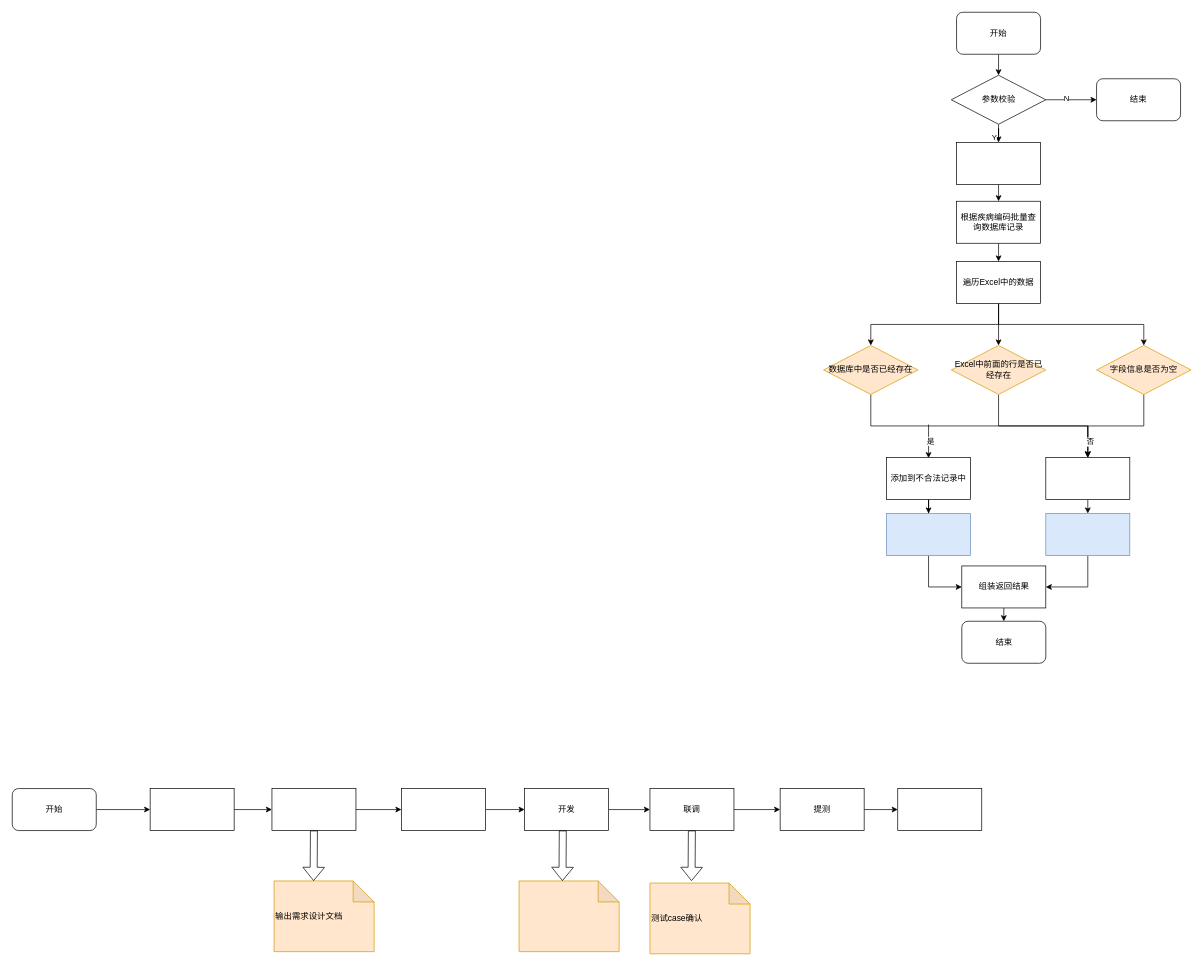
The diagram is 1203 pixels wide and 966 high, and some of its shapes have lost their labels. The shapes that lost their labels are listed below. From the top down, each one's centre as x and y in pixels, then its label:
the point at 998,163: Excel解析转Bean
the point at 1087,478: 添加合法记录中
the point at 928,534: 生成Excel上传cos
the point at 1087,534: 批量插入数据库
the point at 191,809: 需求评审
the point at 313,809: 需求设计
the point at 443,809: 文档评审及排期
the point at 939,809: 上线
the point at 568,916: 1、拉取新分支 2、代码开发 3、合并normal
